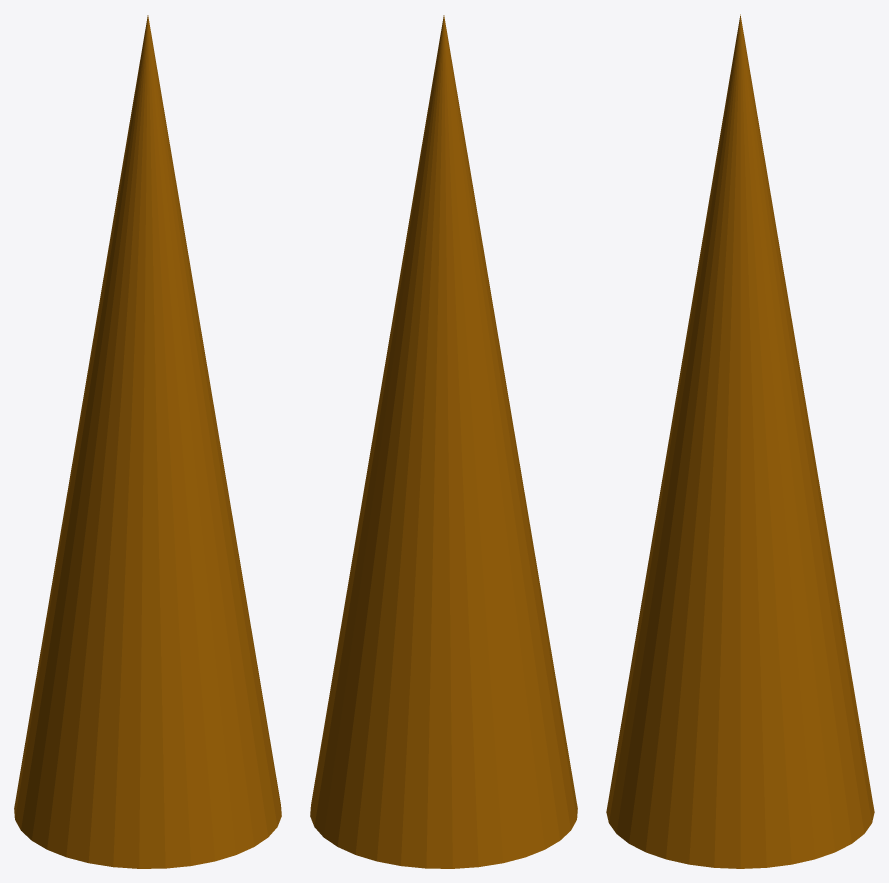
The picture shows the model from 3 angles, left to right: view 1: azimuth 30°, elevation 25°; view 2: azimuth 150°, elevation 25°; view 3: azimuth 270°, elevation 25°; orthographic projection.
Visible parts, largest first — view 1: Cone_001; view 2: Cone_001; view 3: Cone_001.
Boxes of the visible parts, x1=… form: Cone_001: x1=14, y1=15, x2=281, y2=868; Cone_001: x1=310, y1=15, x2=577, y2=868; Cone_001: x1=606, y1=14, x2=874, y2=868.
Bounding box in the file's own units: 2 × 2 × 6.57.
